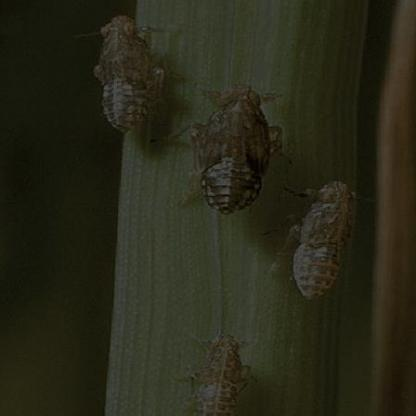brown-planthopper: (194, 82, 272, 214), (288, 180, 358, 304), (93, 14, 156, 130), (180, 331, 256, 416)
